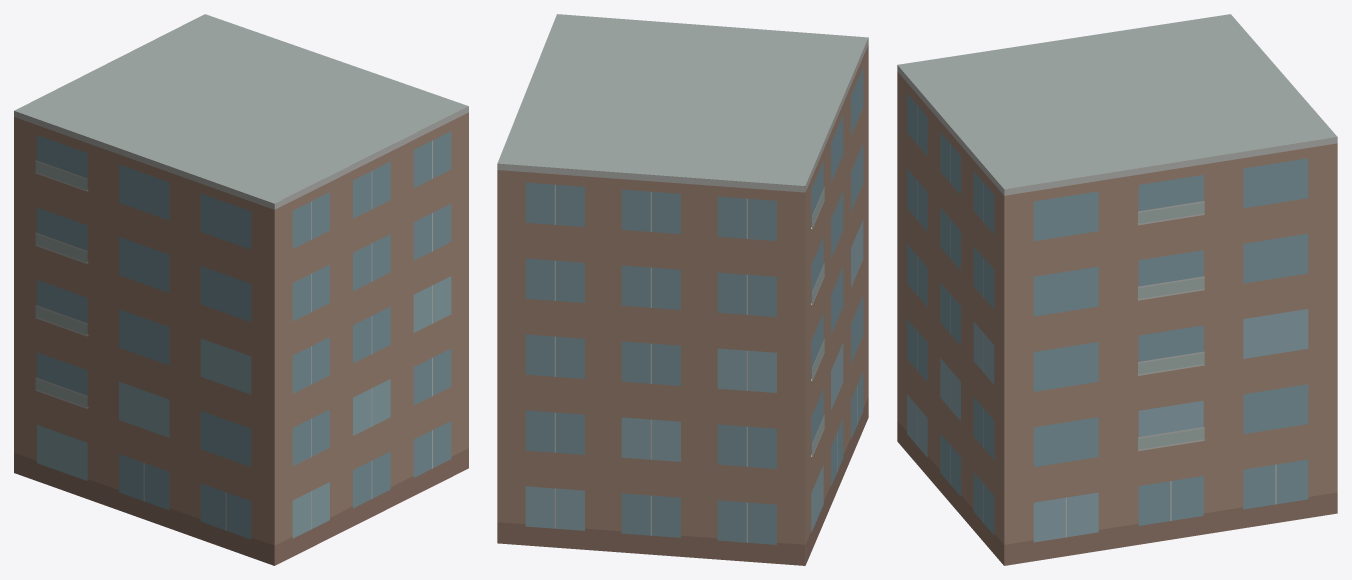
Rendered from survey-upis-32748317.glb.
3 renders of one model, left to right at view 1: azimuth 30°, elevation 25°; view 2: azimuth 150°, elevation 25°; view 3: azimuth 270°, elevation 25°, orthographic. The views are drawn at different scales.
Visible parts, largest first — view 1: survey-upis-32748317.tmp; view 2: survey-upis-32748317.tmp; view 3: survey-upis-32748317.tmp.
Part boxes in pixels (x1,y1,x2,y2): survey-upis-32748317.tmp: (14, 14, 468, 565); survey-upis-32748317.tmp: (497, 14, 868, 565); survey-upis-32748317.tmp: (897, 14, 1337, 565).
Size of the model in its own units: 14.4 by 14.4 by 15.28.
